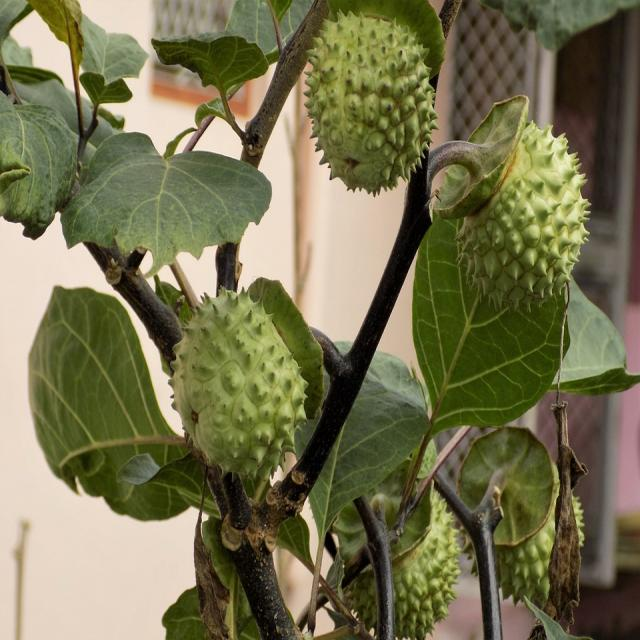Poisonous-Datura_Stramonium: (447, 90, 606, 326), (168, 272, 316, 508), (312, 7, 434, 206), (347, 433, 463, 640), (484, 457, 591, 614)
